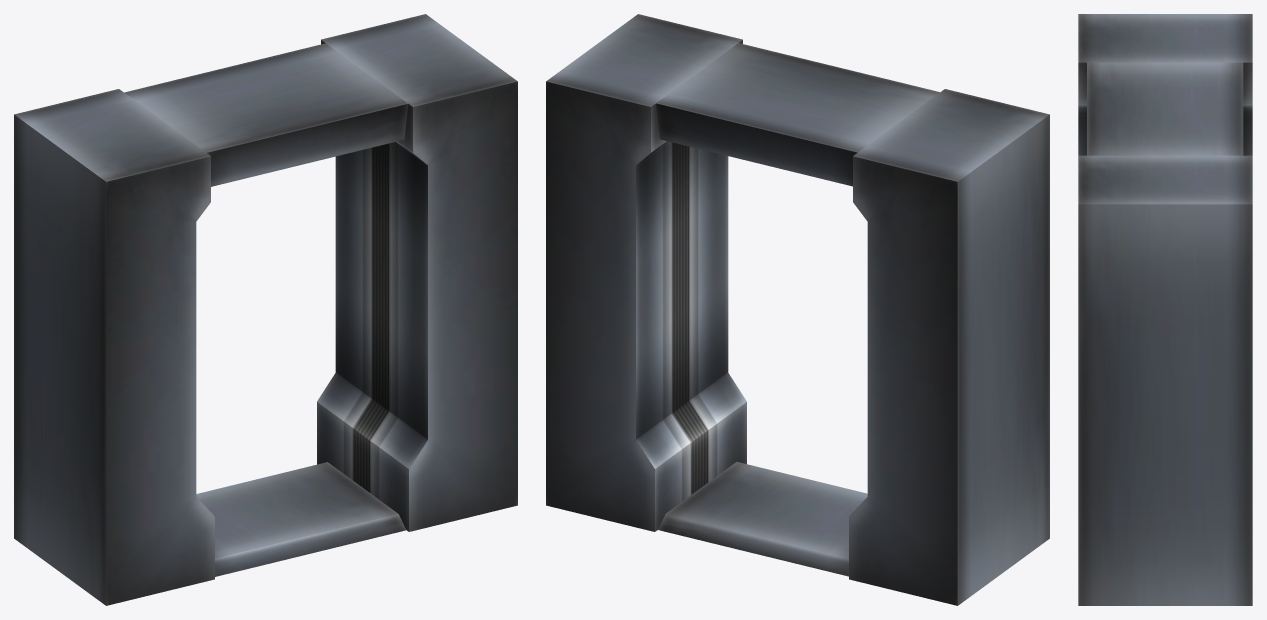
File: doorway.fbx
The picture shows the model from 3 angles, left to right: view 1: azimuth 30°, elevation 25°; view 2: azimuth 150°, elevation 25°; view 3: azimuth 270°, elevation 25°; orthographic projection. The views are drawn at different scales.
Parts seen in each view (by area): view 1: doorway; view 2: doorway; view 3: doorway.
Boxes of the visible parts, x1,y1,x2,y2 form: doorway: [14, 14, 517, 605]; doorway: [546, 14, 1049, 605]; doorway: [1078, 14, 1252, 605].
Size of the model in its own units: 3.25 by 3.2 by 1.26.
